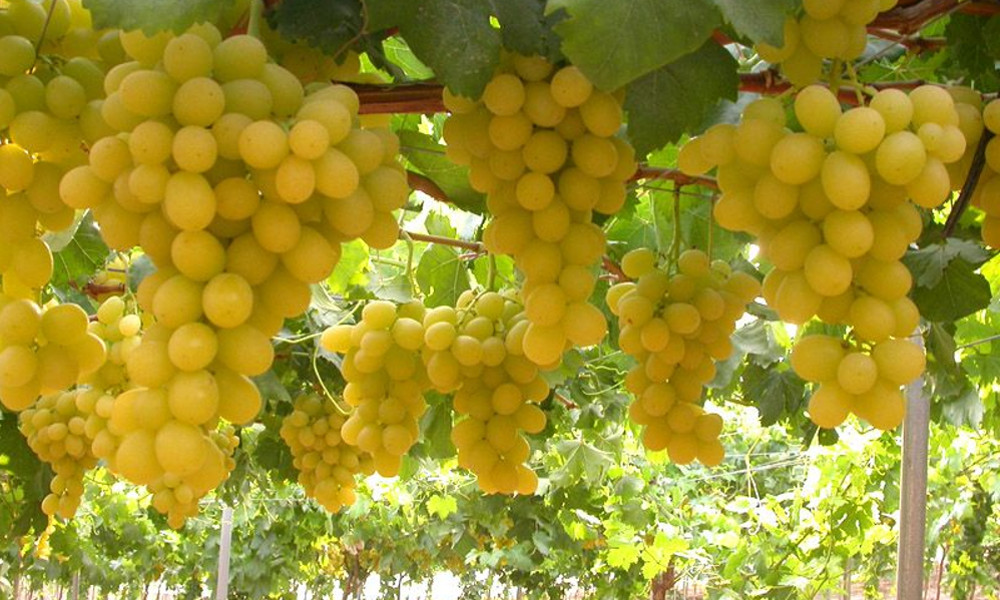Green grapes: (88, 30, 367, 486), (689, 34, 955, 440), (444, 39, 639, 365), (312, 278, 574, 507)
